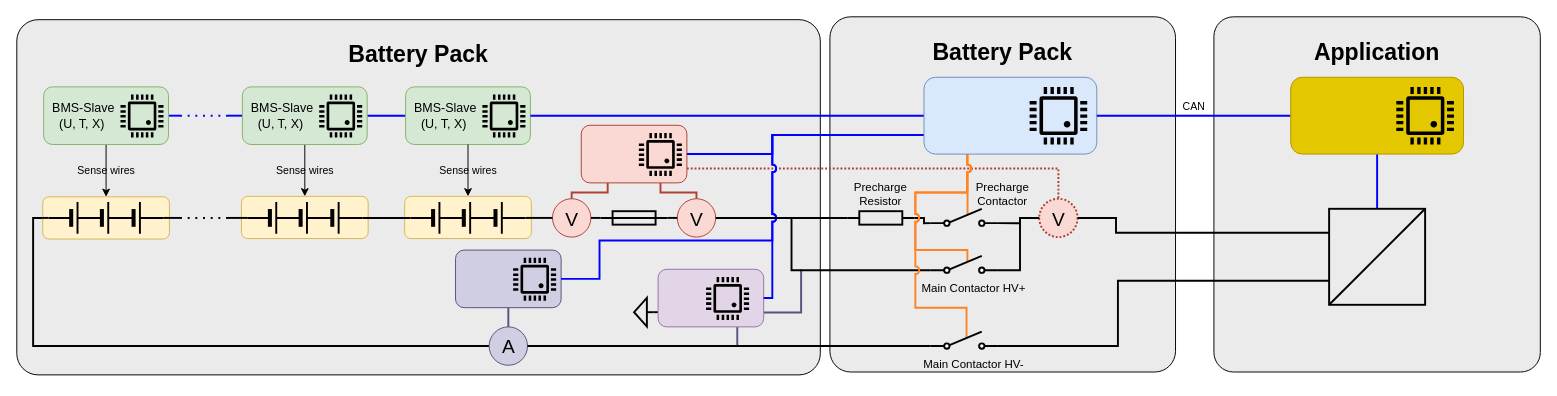
Some shapes in this 1557 by 396 pixel diagram are drawn without their labels. Each missing label, with the box of its shape:
Application Controler: (1290, 76, 1464, 154)
BMS Master: (923, 76, 1097, 154)
Current Sensor: (455, 249, 561, 308)
IMD: (657, 268, 764, 327)
Voltage Sensor: (580, 124, 687, 183)
